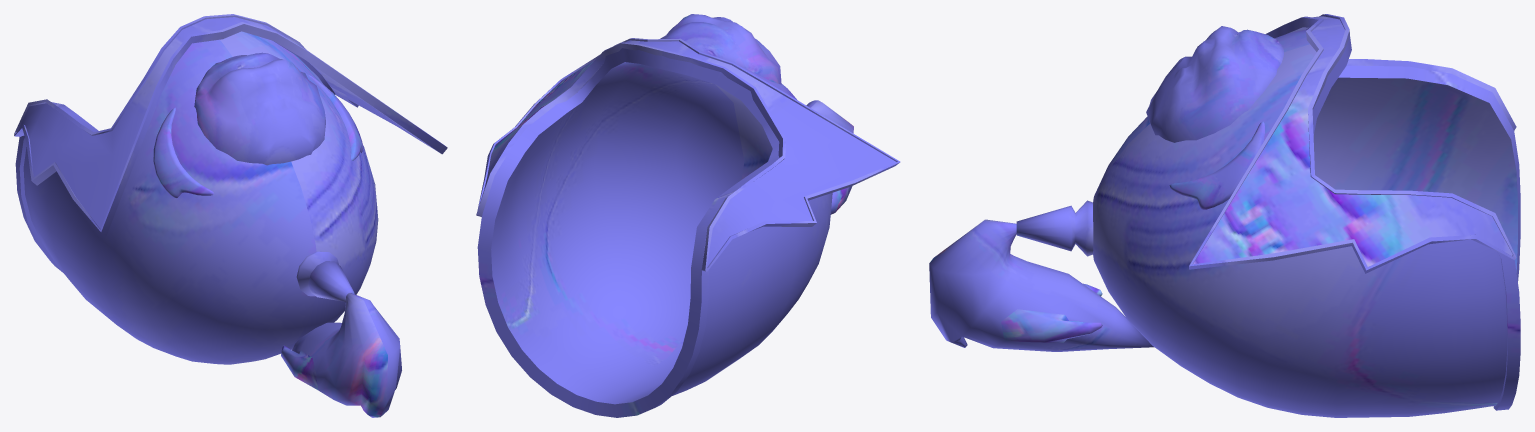
Rendered from Headwear59.glb.
The picture shows the model from 3 angles, left to right: view 1: azimuth 30°, elevation 25°; view 2: azimuth 150°, elevation 25°; view 3: azimuth 270°, elevation 25°; orthographic projection. The views are drawn at different scales.
Visible parts, largest first — view 1: Headwear59; view 2: Headwear59; view 3: Headwear59.
Boxes of the visible parts, left/top/right/bottom form: Headwear59: left=14, top=14, right=447, bottom=417; Headwear59: left=476, top=14, right=900, bottom=417; Headwear59: left=929, top=14, right=1520, bottom=417.
Bounding box in the file's own units: 2.53 × 2.28 × 3.27.
1 material, 1 textured.
